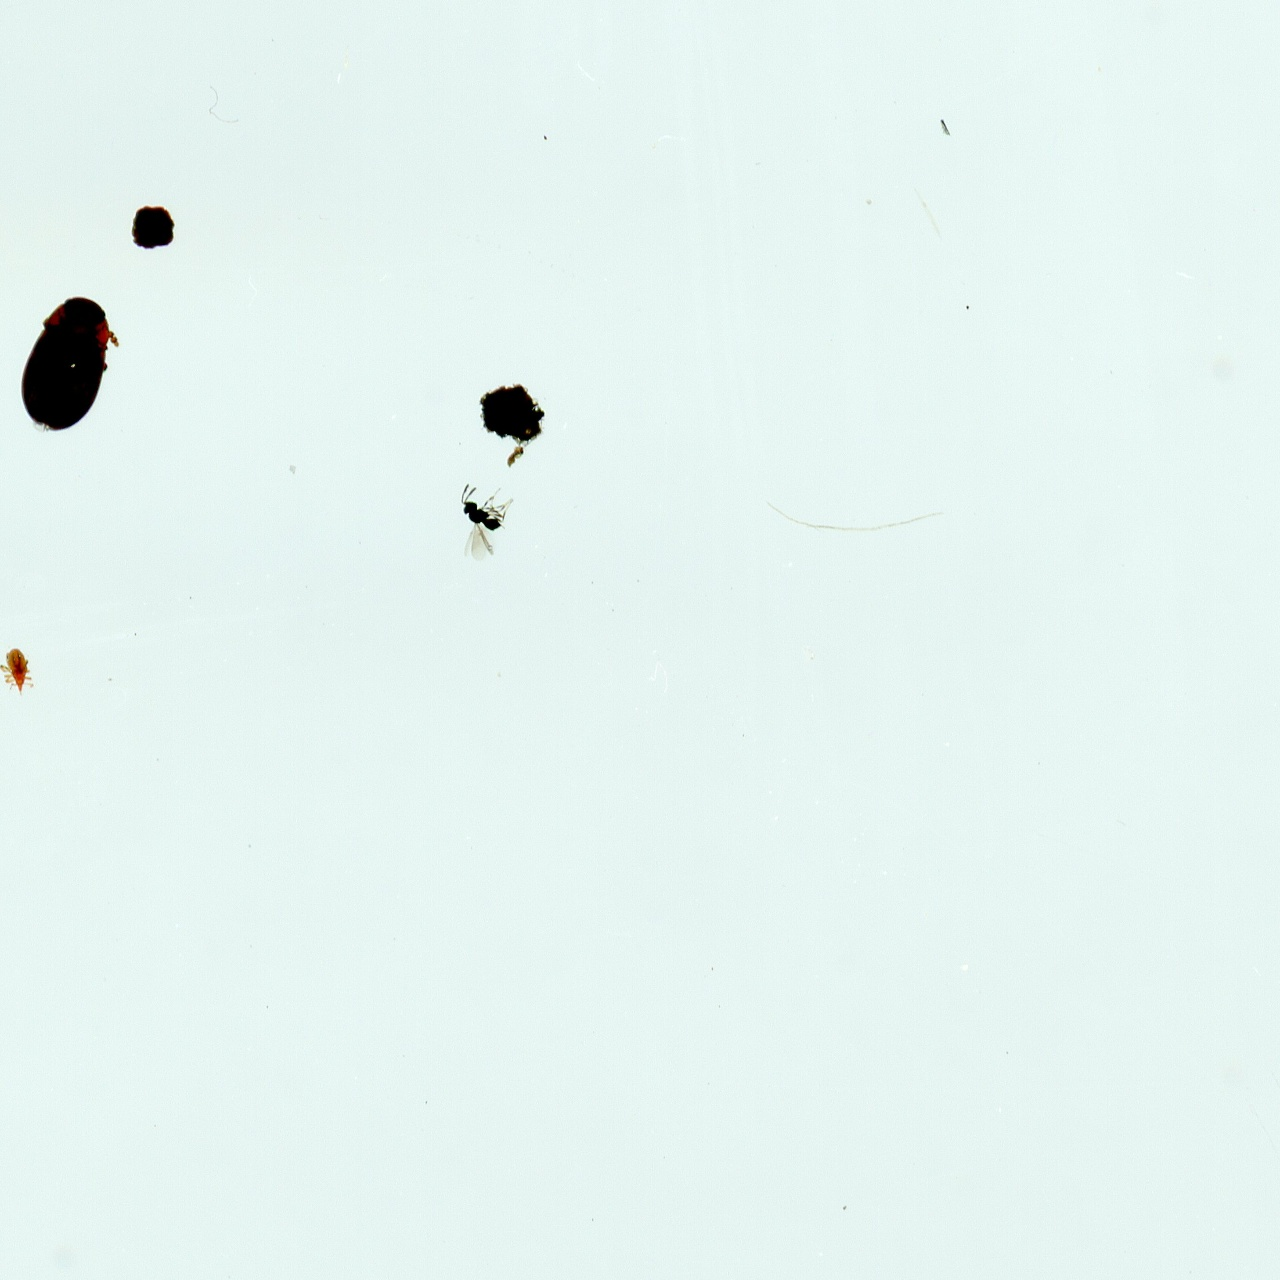arthropod: (16, 292, 120, 437), (449, 482, 516, 556), (0, 645, 35, 696)
